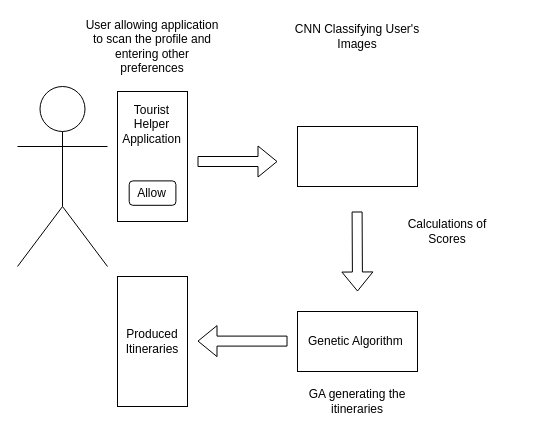
Image size: 535x438. Some labels were removed from this diagram. The shapes that lost their labels are listed below. From the top down, each one's centre as x and y in pixels, then its label:
(x=62, y=176): Actor
(x=357, y=156): Pre-Trained CNN Model
